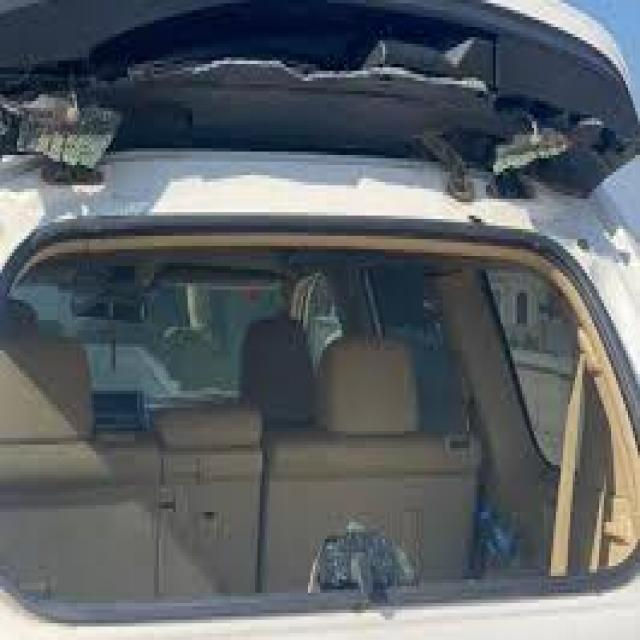damaged-rear-window: (4, 212, 640, 640)
